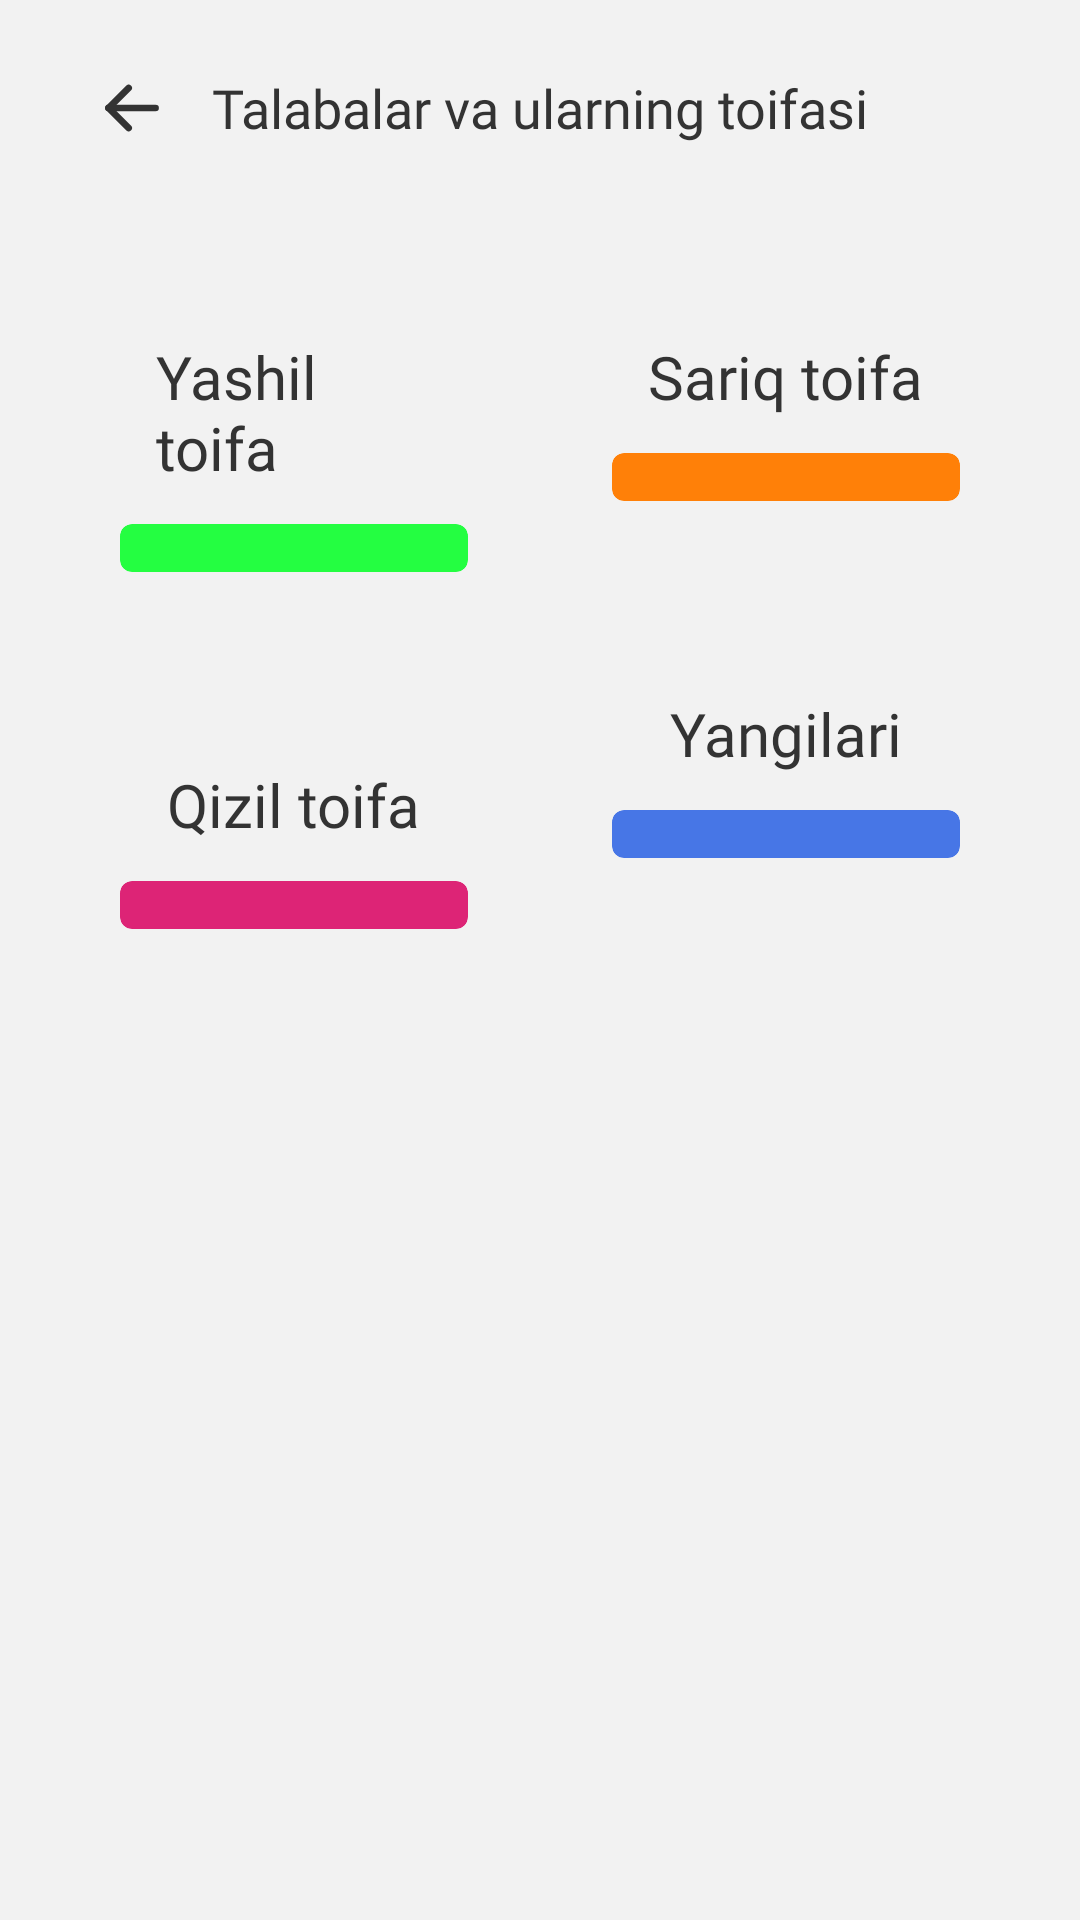

Locate icon controls on the screen. Image size 1080px x 1920px, boxes as [left=x1, top=y1, right=x2, bottom=y2].
back: [left=105, top=84, right=159, bottom=132]
